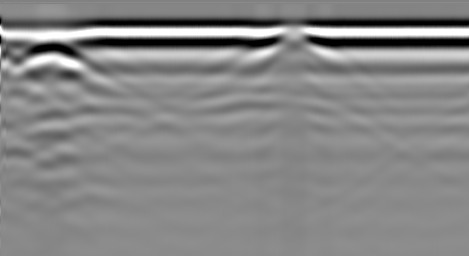pipe: (262, 28, 324, 54)
steel: (21, 41, 83, 82)
